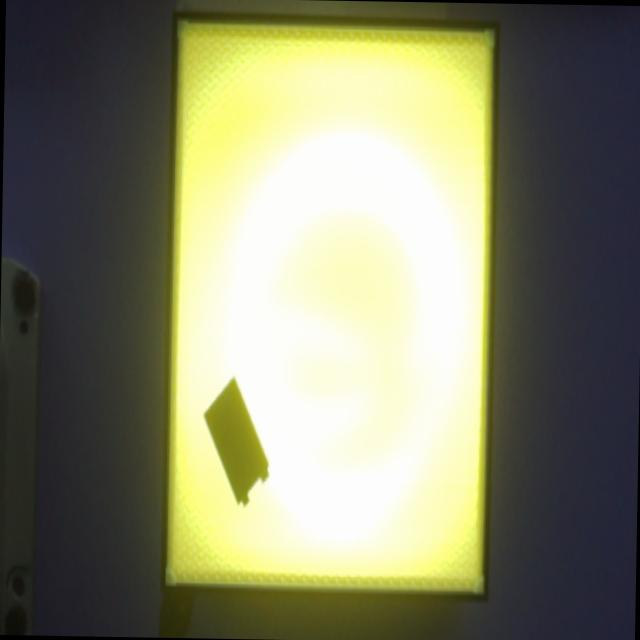bateria: (202, 375, 269, 506)
mesa: (159, 12, 500, 600)
